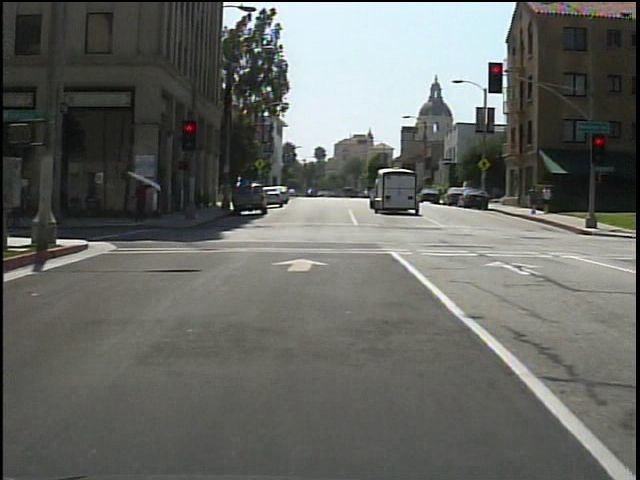person: (132, 180, 156, 223), (540, 186, 556, 217), (528, 184, 542, 218)
